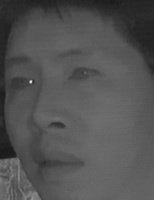eye: (68, 64, 100, 87), (7, 75, 35, 93)
mouth: (29, 147, 83, 181)
